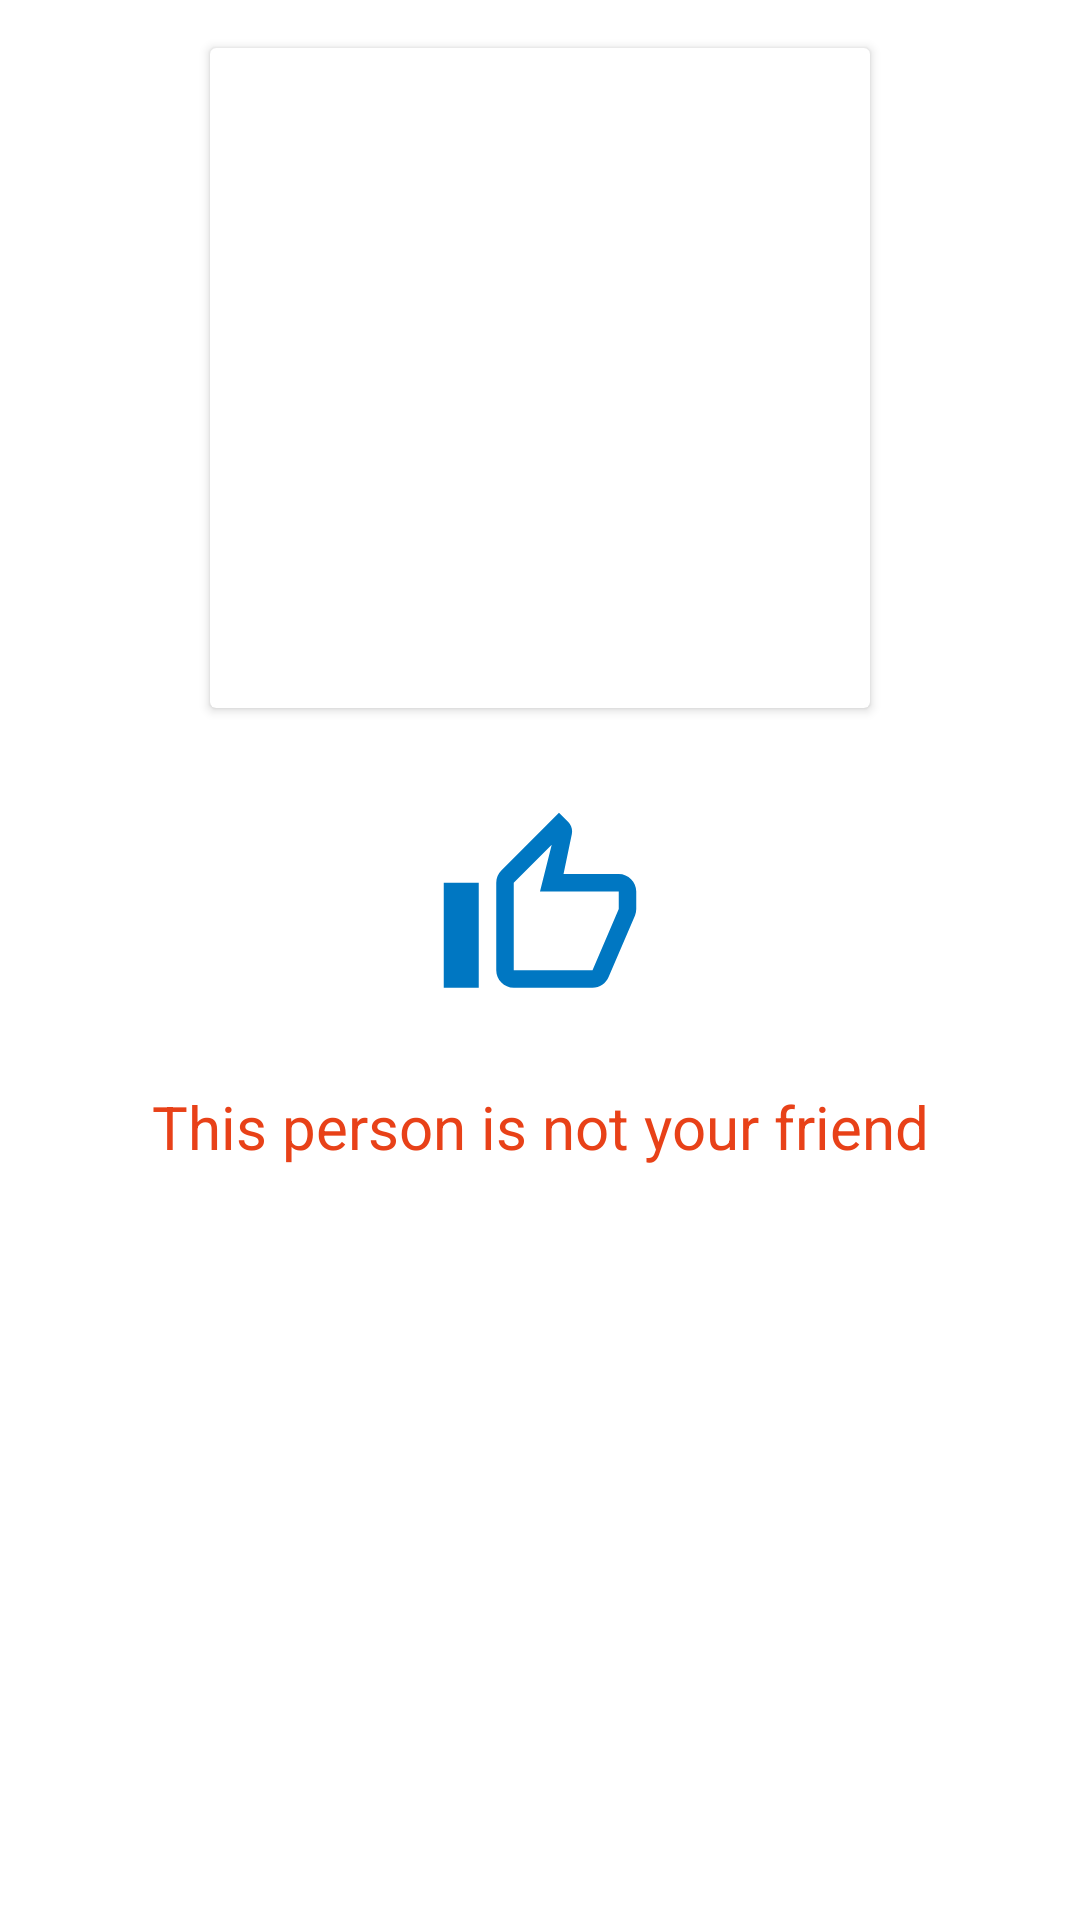

Named icons in this screenshot (1080px×1920px) and their centers, (x=x, y=y):
not liked: (x=540, y=900)
